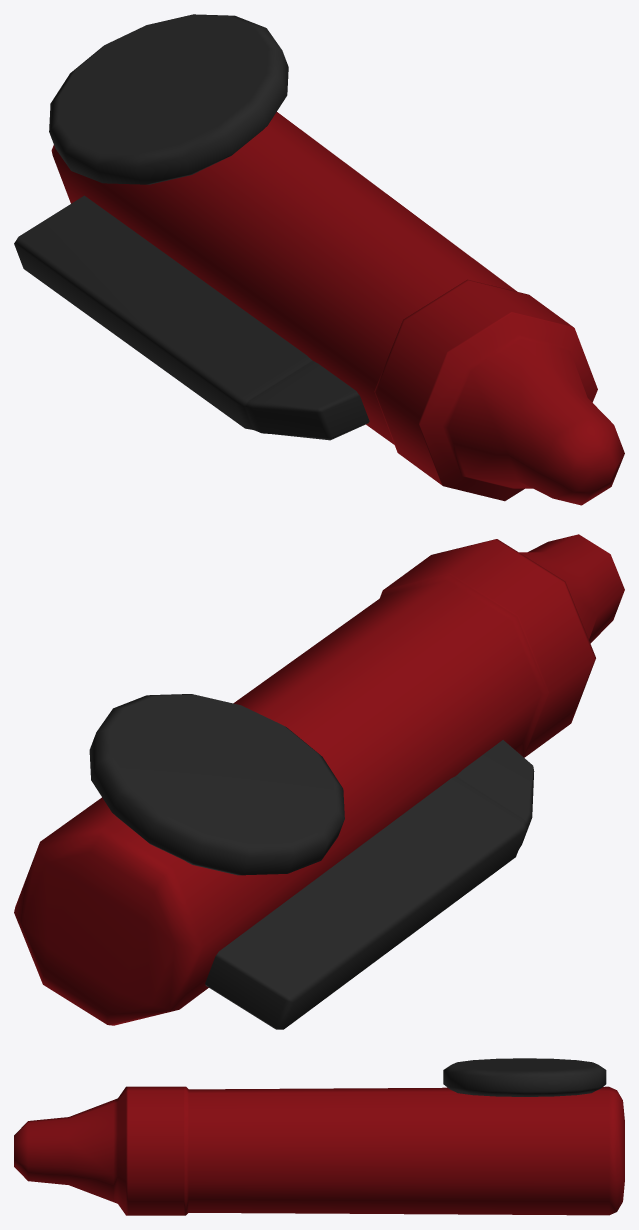
File: Ship_enemy_02_Weapon_R.fbx
3 views of the same model, one above another, from view 1: azimuth 30°, elevation 25°; view 2: azimuth 150°, elevation 25°; view 3: azimuth 270°, elevation 25° (orthographic). The views are drawn at different scales.
Visible parts, largest first — view 1: Ship_enemy_02_Weapon_R; view 2: Ship_enemy_02_Weapon_R; view 3: Ship_enemy_02_Weapon_R.
Part boxes in pixels (bbox=[...]): Ship_enemy_02_Weapon_R: bbox=[14, 14, 624, 505]; Ship_enemy_02_Weapon_R: bbox=[14, 534, 624, 1029]; Ship_enemy_02_Weapon_R: bbox=[14, 1058, 624, 1215].
Size of the model in its own units: 68.16 by 64.98 by 229.
